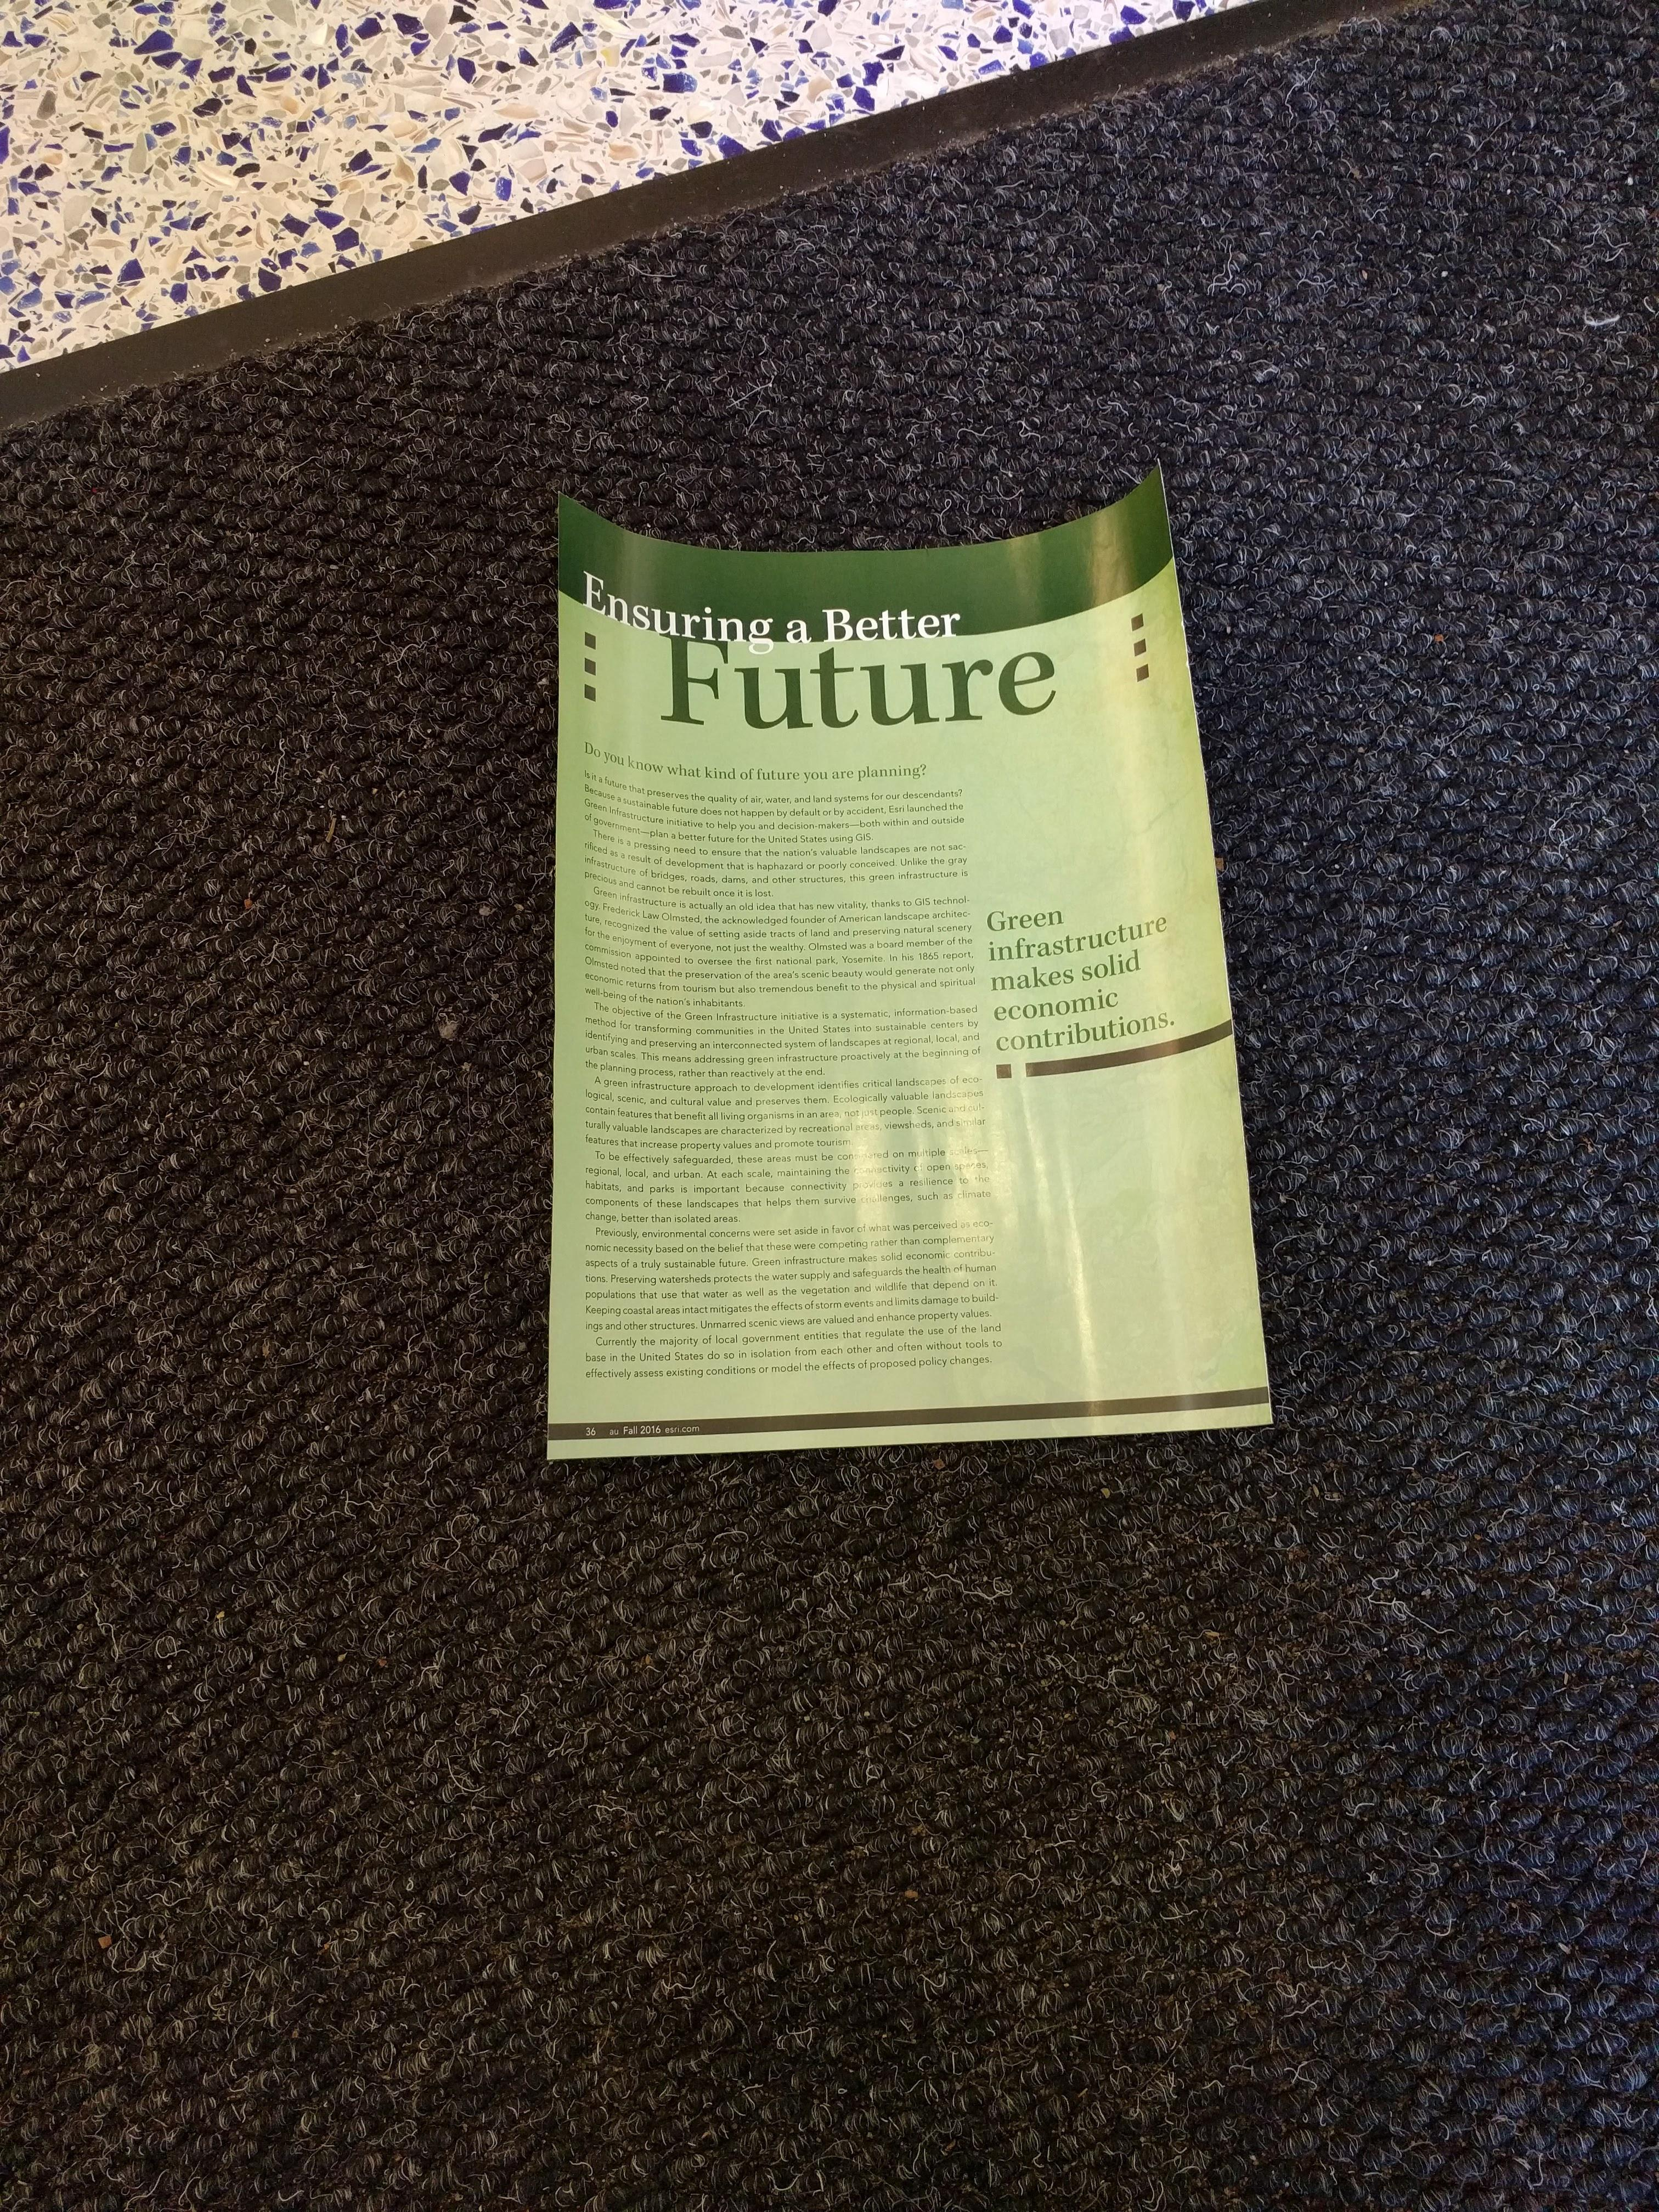paper: (406, 333, 1420, 1627)
